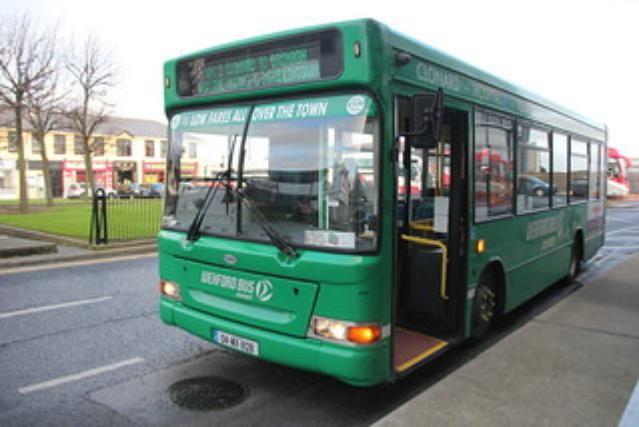bus: (154, 16, 608, 389)
